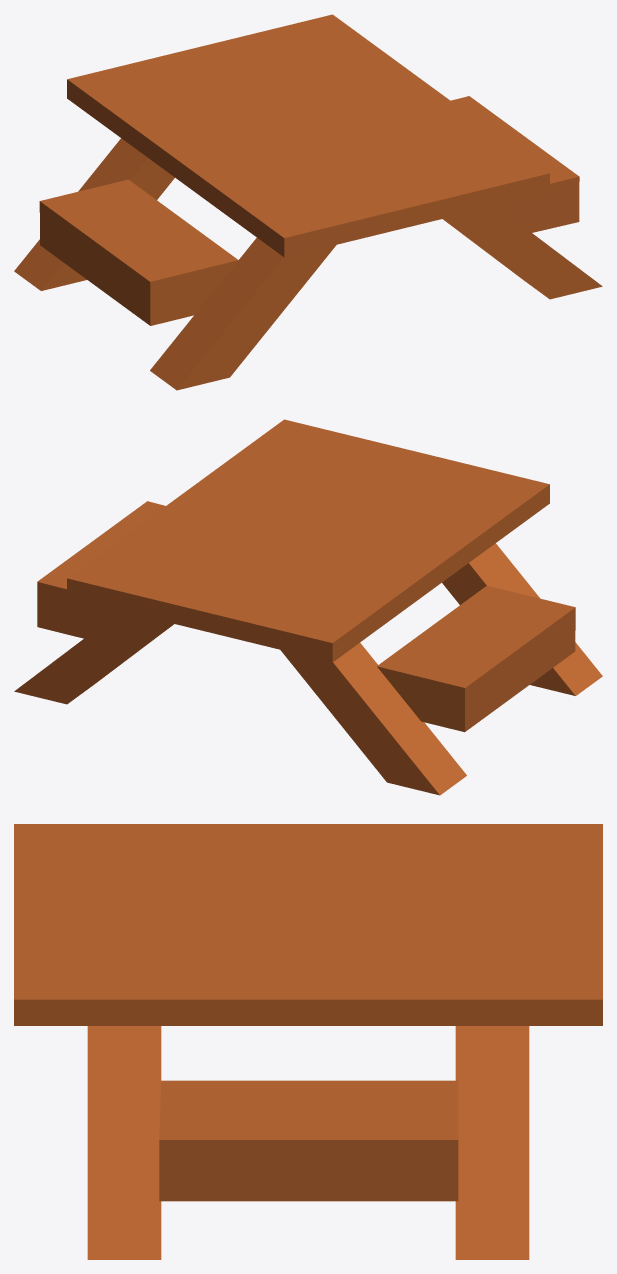
File: PICNIC TABLE.glb
The picture shows the model from 3 angles, top to bottom: view 1: azimuth 30°, elevation 25°; view 2: azimuth 150°, elevation 25°; view 3: azimuth 270°, elevation 25°; orthographic projection. The views are drawn at different scales.
Visible parts, largest first — view 1: PICNIC TABLE; view 2: PICNIC TABLE; view 3: PICNIC TABLE.
Boxes of the visible parts, <box> form: PICNIC TABLE: <box>14,14,602,390</box>; PICNIC TABLE: <box>14,419,602,795</box>; PICNIC TABLE: <box>14,824,602,1259</box>.
Size of the model in its own units: 14.46 by 4.91 by 12.67.
